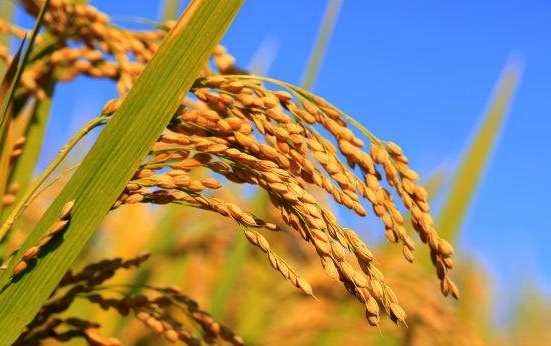rice: (30, 3, 471, 338)
